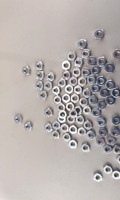nut: (94, 29, 106, 40), (78, 39, 89, 50), (88, 94, 98, 106), (91, 83, 101, 95), (94, 172, 104, 183), (105, 64, 116, 74), (98, 56, 108, 67), (97, 118, 107, 129), (99, 128, 109, 139), (72, 67, 82, 78), (35, 80, 45, 91), (53, 94, 62, 106), (104, 165, 114, 175), (81, 68, 91, 78), (107, 137, 117, 147), (106, 96, 116, 106), (101, 88, 111, 98), (96, 76, 106, 86), (78, 77, 88, 87), (35, 71, 45, 81), (58, 110, 68, 120), (76, 116, 86, 126), (57, 113, 67, 123), (82, 49, 91, 60), (62, 60, 71, 71), (87, 130, 96, 141), (69, 139, 78, 150), (98, 100, 107, 111), (83, 88, 92, 99), (87, 75, 96, 86), (62, 93, 71, 104), (38, 91, 49, 100), (66, 115, 75, 126), (24, 122, 33, 132), (14, 115, 23, 125), (45, 108, 54, 118), (22, 66, 31, 76), (36, 62, 45, 72), (47, 72, 56, 82), (75, 58, 84, 68), (111, 128, 120, 138), (78, 127, 87, 137), (84, 121, 93, 131), (106, 80, 116, 89), (62, 71, 72, 80), (70, 94, 80, 103), (74, 106, 83, 116), (79, 98, 89, 107), (44, 81, 53, 91), (69, 77, 78, 87), (112, 88, 120, 99), (61, 123, 69, 134), (52, 86, 60, 97), (68, 52, 77, 61), (97, 138, 106, 147), (69, 126, 78, 135), (65, 85, 74, 94), (112, 171, 120, 181), (88, 56, 96, 66), (112, 116, 120, 126), (82, 144, 90, 154), (104, 145, 112, 155), (92, 109, 102, 117), (63, 133, 71, 143), (84, 106, 92, 116), (113, 145, 120, 156), (45, 123, 52, 134), (52, 131, 60, 140), (52, 122, 60, 131), (75, 85, 82, 95), (70, 109, 77, 119), (114, 49, 120, 60), (67, 103, 75, 111), (57, 105, 65, 111), (117, 155, 120, 165)
